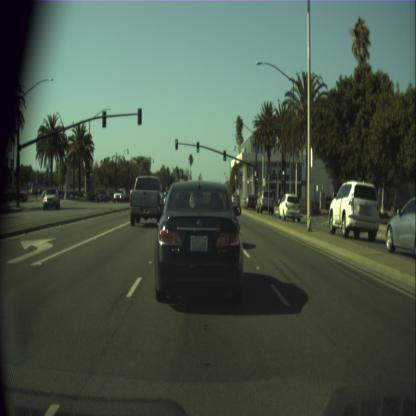Green: (282, 159, 285, 176), (196, 142, 199, 152), (223, 150, 226, 160), (256, 170, 258, 181)
Red: (175, 138, 178, 148)
RedLeft: (86, 168, 89, 178)
